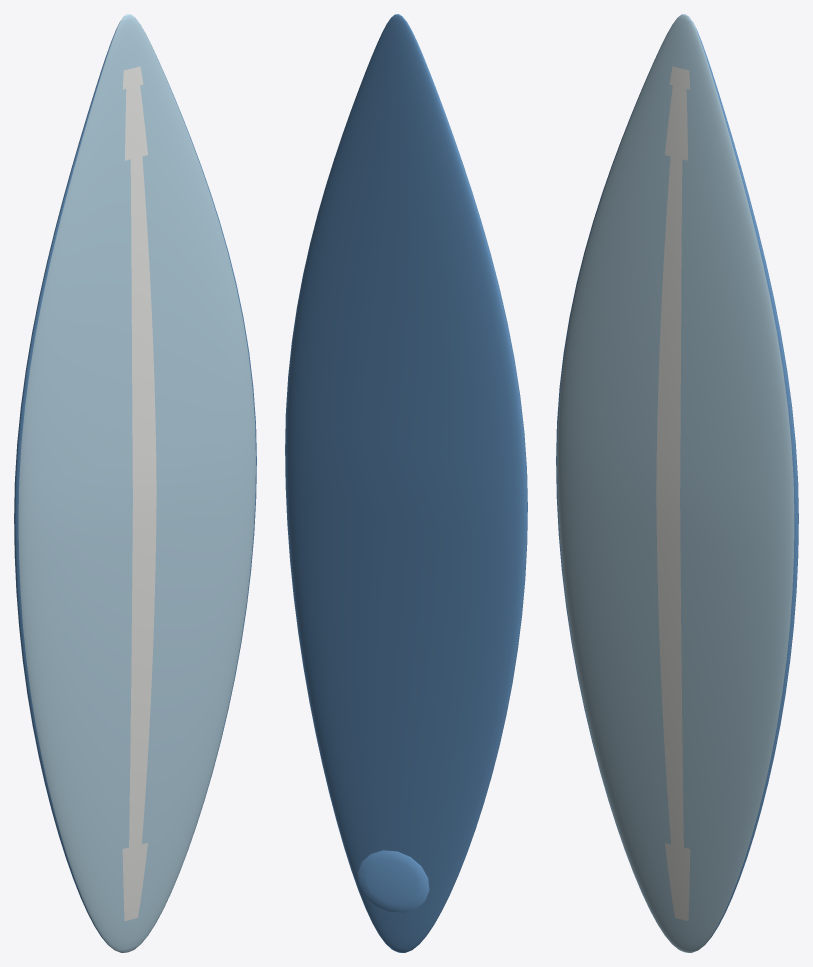
File: Prop_Surfboard.fbx
3 views of the same model, side by side, from view 1: azimuth 30°, elevation 25°; view 2: azimuth 150°, elevation 25°; view 3: azimuth 330°, elevation 25° (orthographic).
Visible parts, largest first — view 1: Surfboard; view 2: Surfboard; view 3: Surfboard.
Part boxes in pixels (x1,y1,x2,y2): Surfboard: (14,14,256,952); Surfboard: (285,14,527,952); Surfboard: (556,14,798,952).
Bounding box in the file's own units: 0.54 × 2 × 0.1017.
